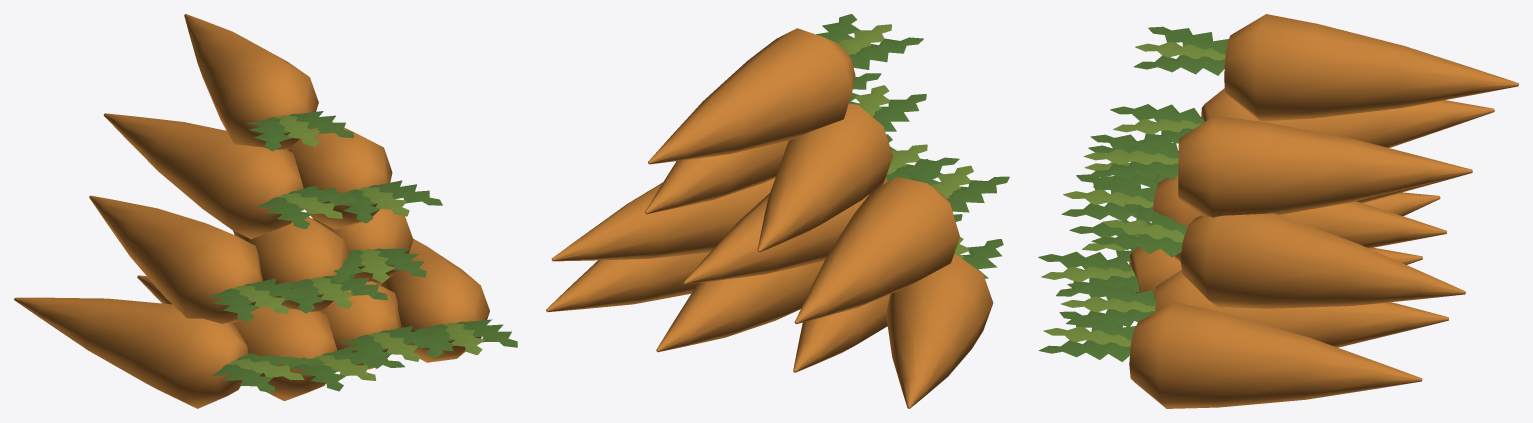
The model's file is pile-vegetable-10.gltf.
3 renders of one model, left to right at view 1: azimuth 30°, elevation 25°; view 2: azimuth 150°, elevation 25°; view 3: azimuth 270°, elevation 25°, orthographic. The views are drawn at different scales.
Visible parts, largest first — view 1: pile-vegetable-10; view 2: pile-vegetable-10; view 3: pile-vegetable-10.
Part boxes in pixels (<box>): pile-vegetable-10: <box>14,14,517,408</box>; pile-vegetable-10: <box>546,14,1009,408</box>; pile-vegetable-10: <box>1038,14,1518,408</box>.
Bounding box in the file's own units: 0.6447 × 0.512 × 0.7088.
